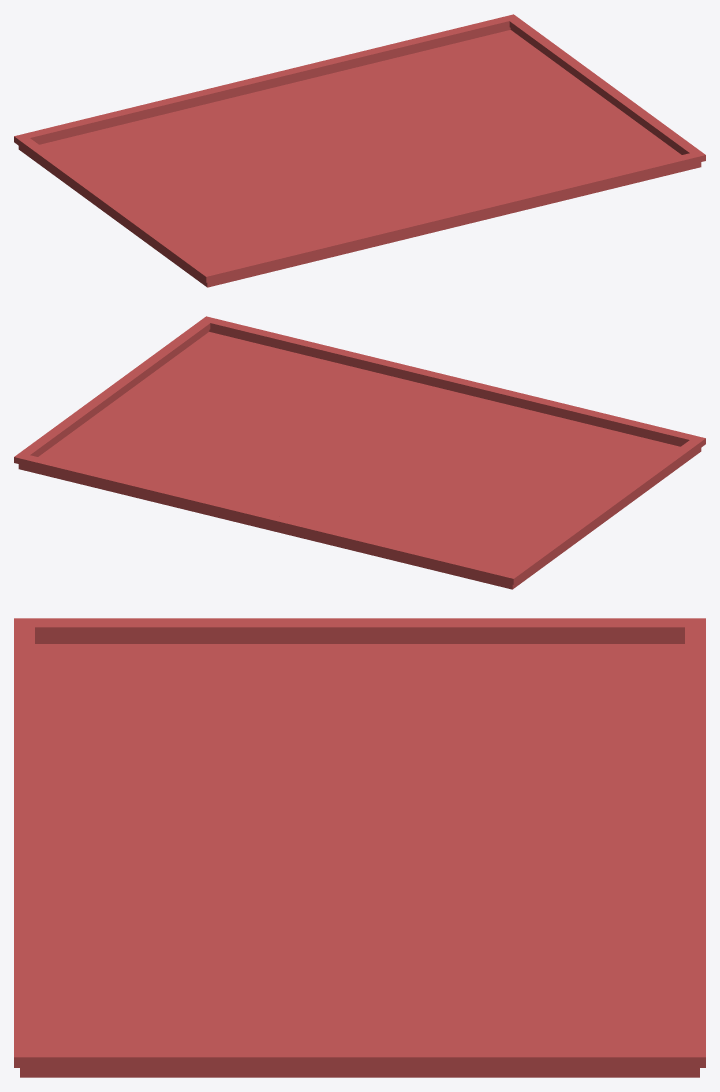
File: SM_house_section_11.fbx
The picture shows the model from 3 angles, top to bottom: view 1: azimuth 30°, elevation 25°; view 2: azimuth 150°, elevation 25°; view 3: azimuth 270°, elevation 25°; orthographic projection. The views are drawn at different scales.
Parts seen in each view (by area): view 1: Boole_1; view 2: Boole_1; view 3: Boole_1.
Part boxes in pixels (x1,y1,x2,y2): Boole_1: (14, 14, 705, 287); Boole_1: (14, 316, 705, 589); Boole_1: (14, 618, 705, 1077).
Bounding box in the file's own units: 2337 × 56.6 × 1557.
